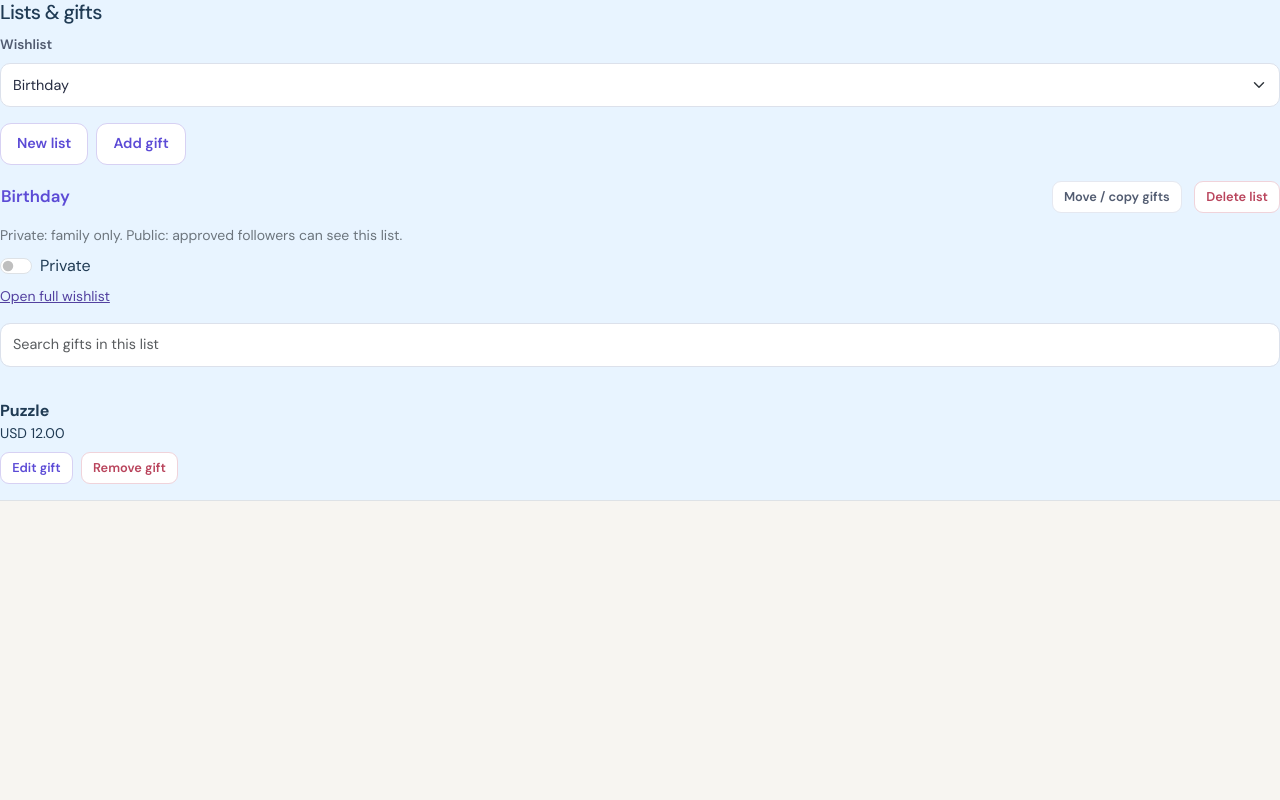
Test: lets an authorized manager rename lists and edit their gifts inside the dialog section
Click the button named "Rename Birthday" at (35, 196), box [0,184,1040,209]
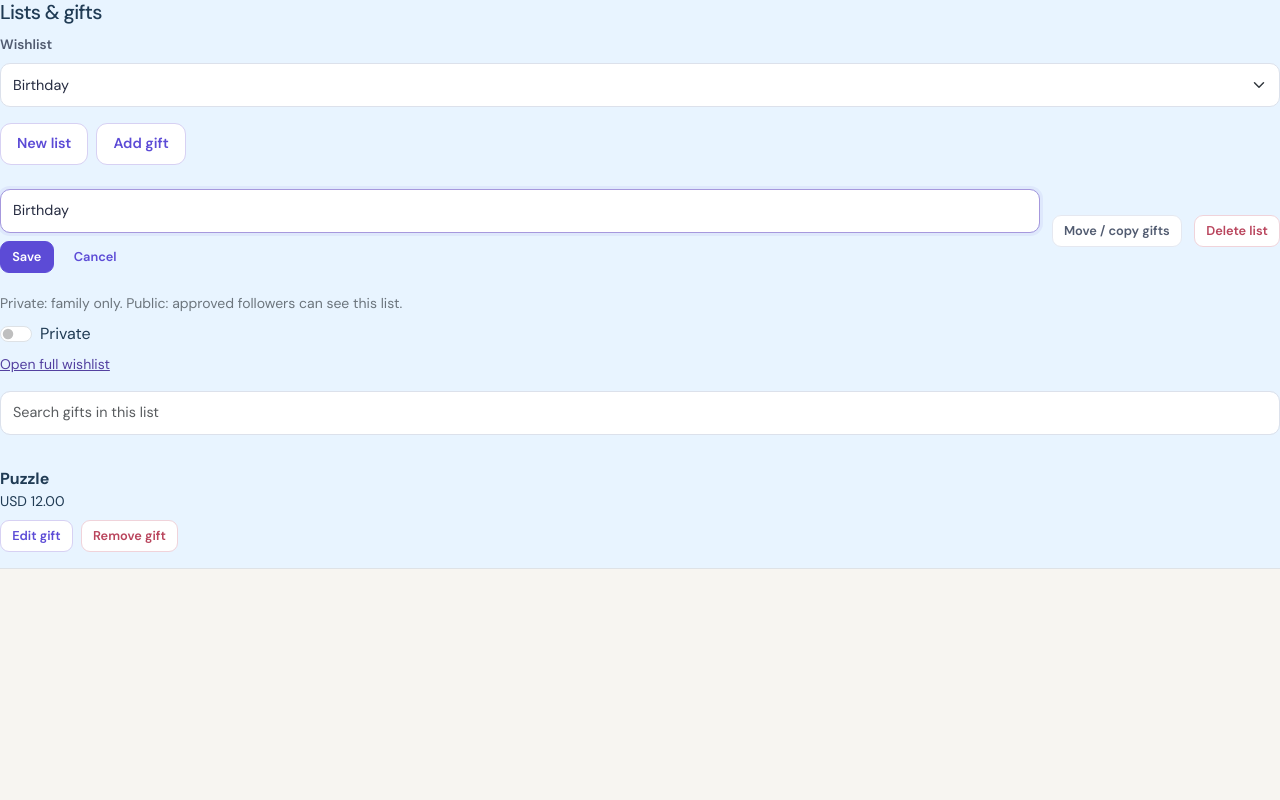
Replace the text in the field named "List name" with "Christmas" at (520, 211), box [0,189,1040,233]
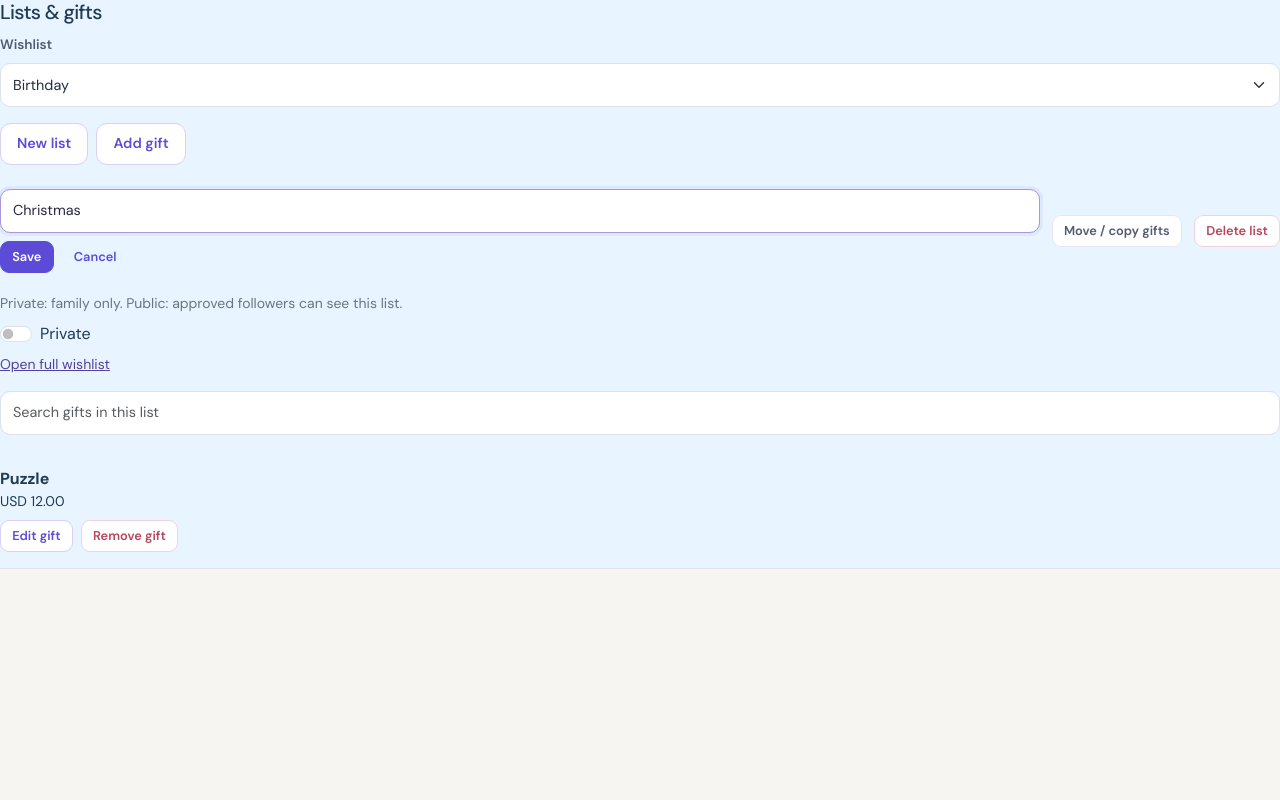
Submit the form named "List name", box [0,189,1040,273]
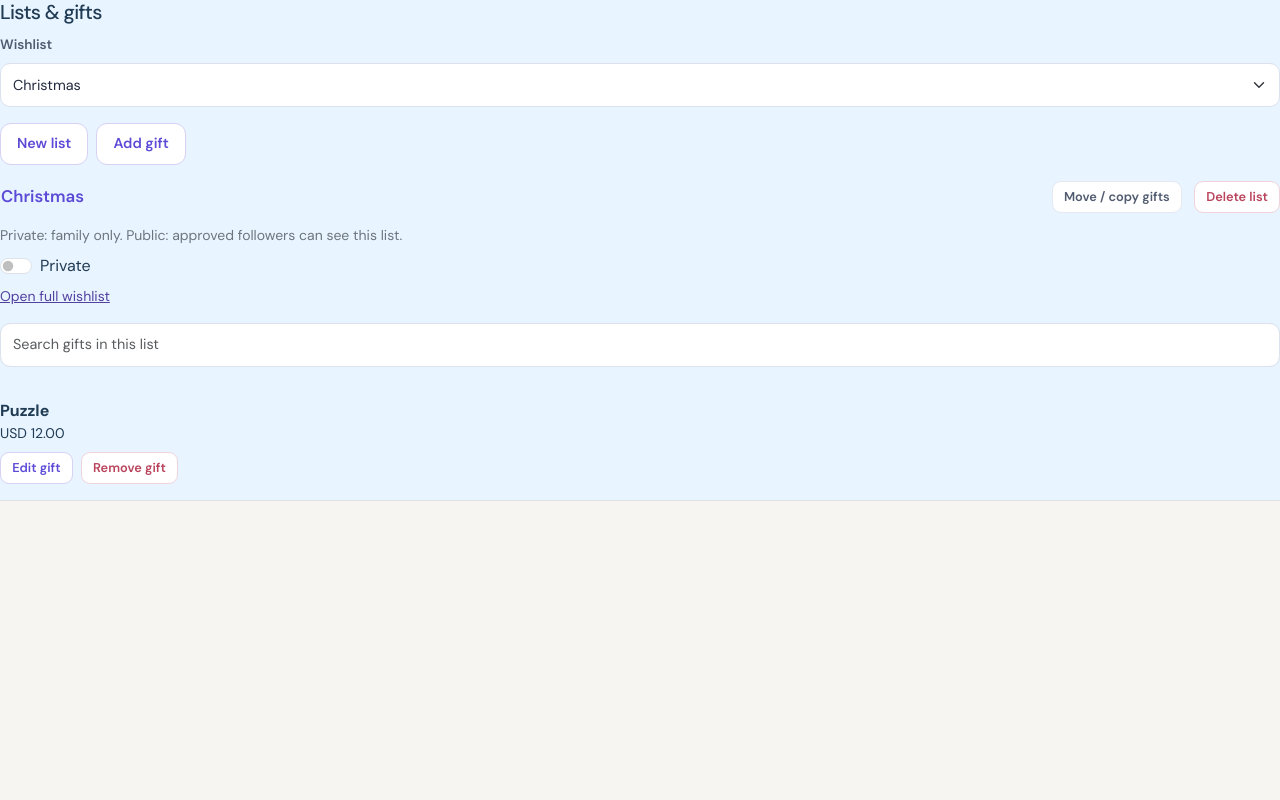
Expected: the button named "Rename Christmas" is shown, [0,184,1040,209]
Click the button "Edit gift" at (36, 468), box [0,452,73,484]
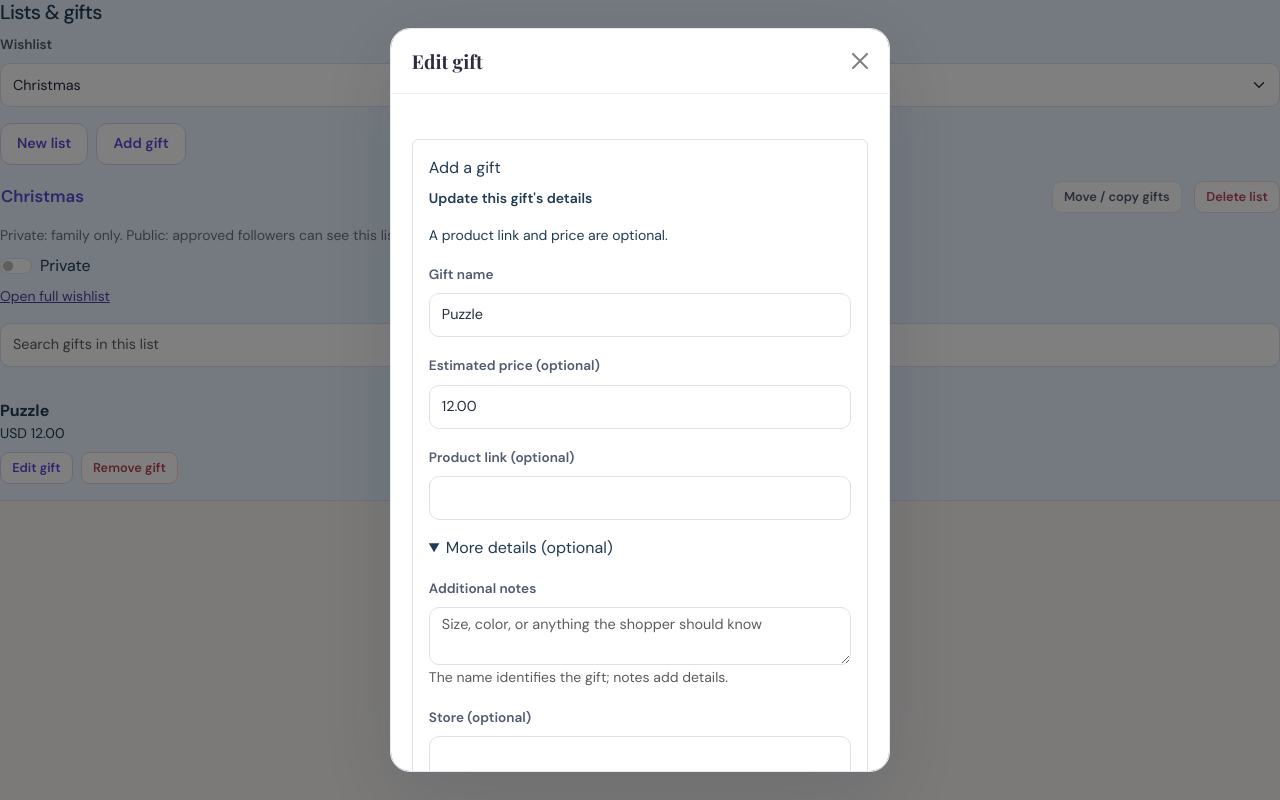
Replace the text in the field labelled "Gift name" with "Bigger puzzle" at (640, 315), box [429,293,851,337]
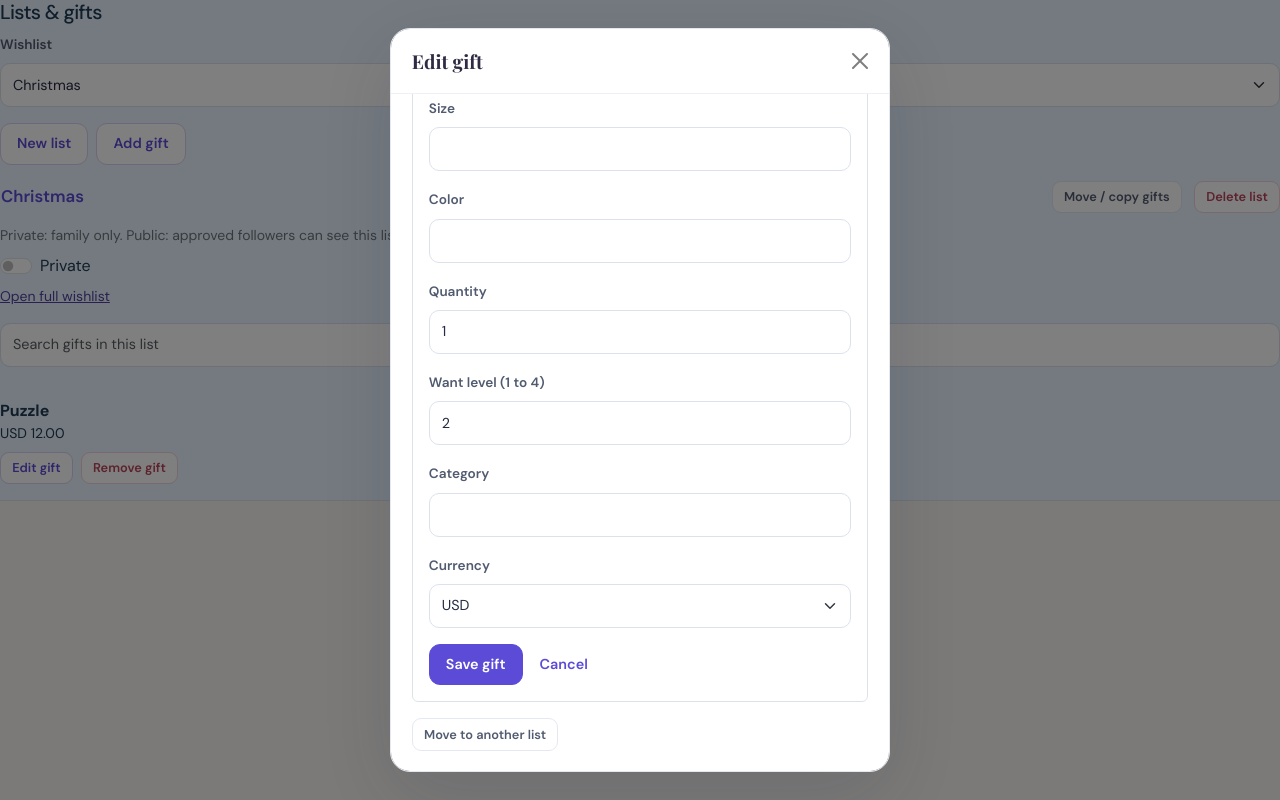
Click the button "Save gift" at (476, 665), box [429,644,523,686]
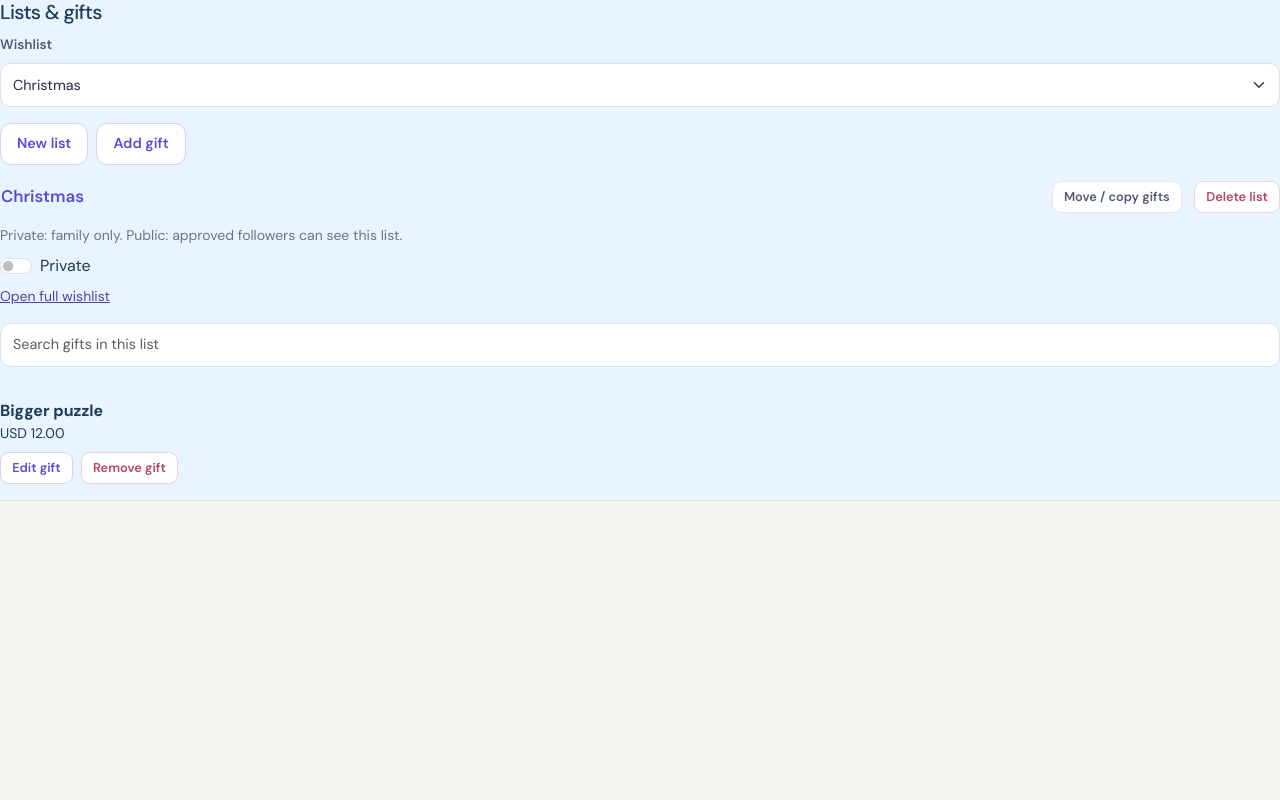
Expected: the text "Bigger puzzle" is shown, [0,400,103,421]
